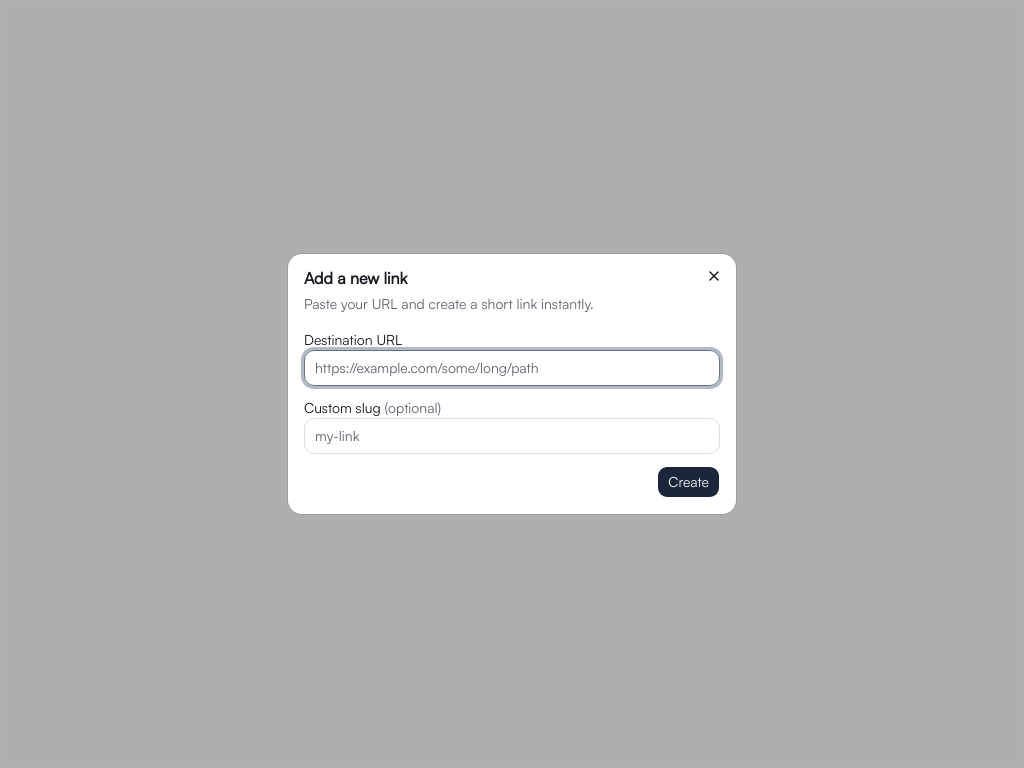
AddLinkDialog › shows success feedback after a link is created
Step 1. Type "https://example.com" into the field labelled "Destination URL" → (512,368), box [304, 350, 720, 386]
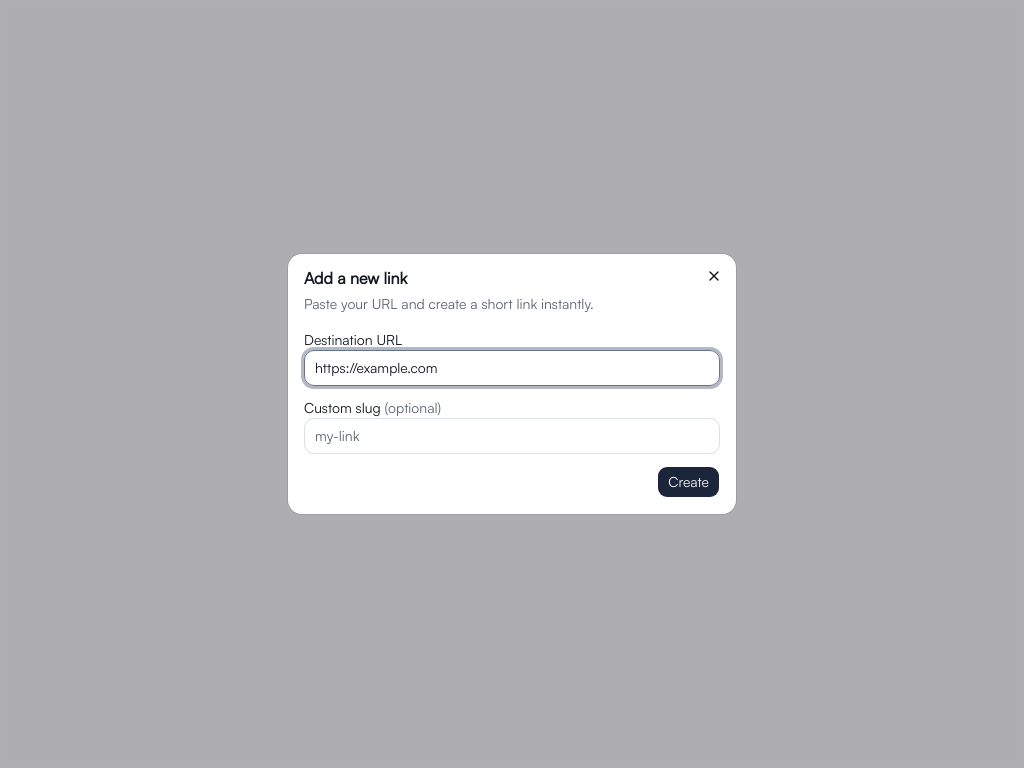
Step 2. Click the button "Create" → (689,482), box [657, 466, 720, 498]
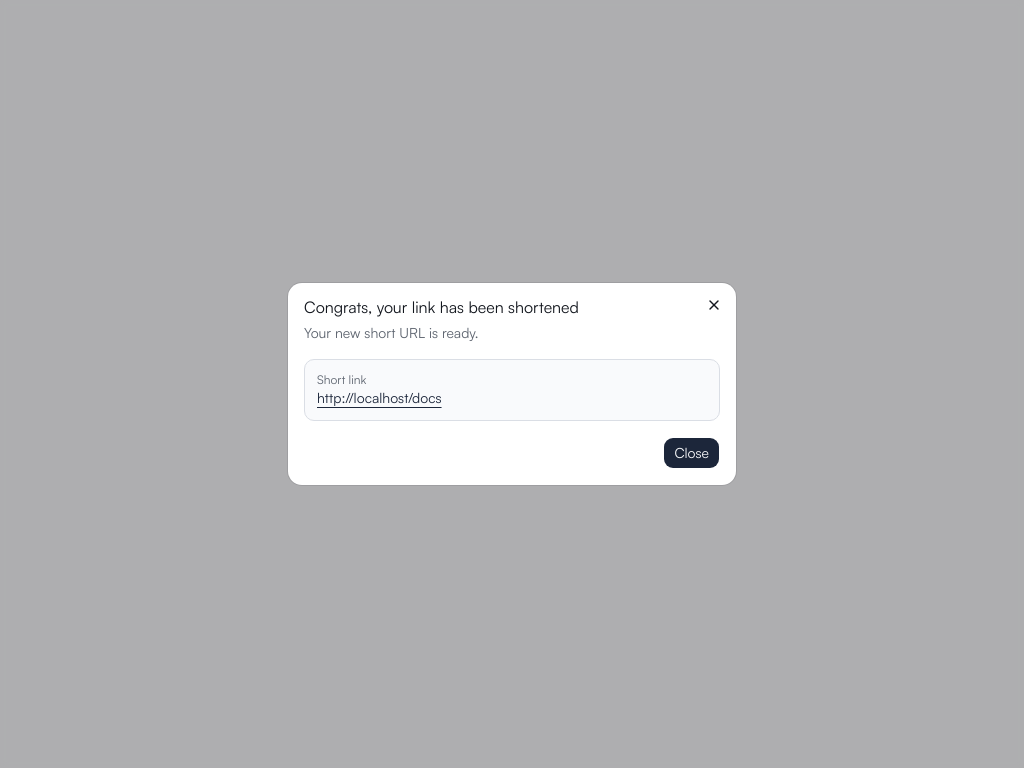
Check: the heading "Congrats, your link has been shortened" is shown, box [304, 297, 579, 317]
